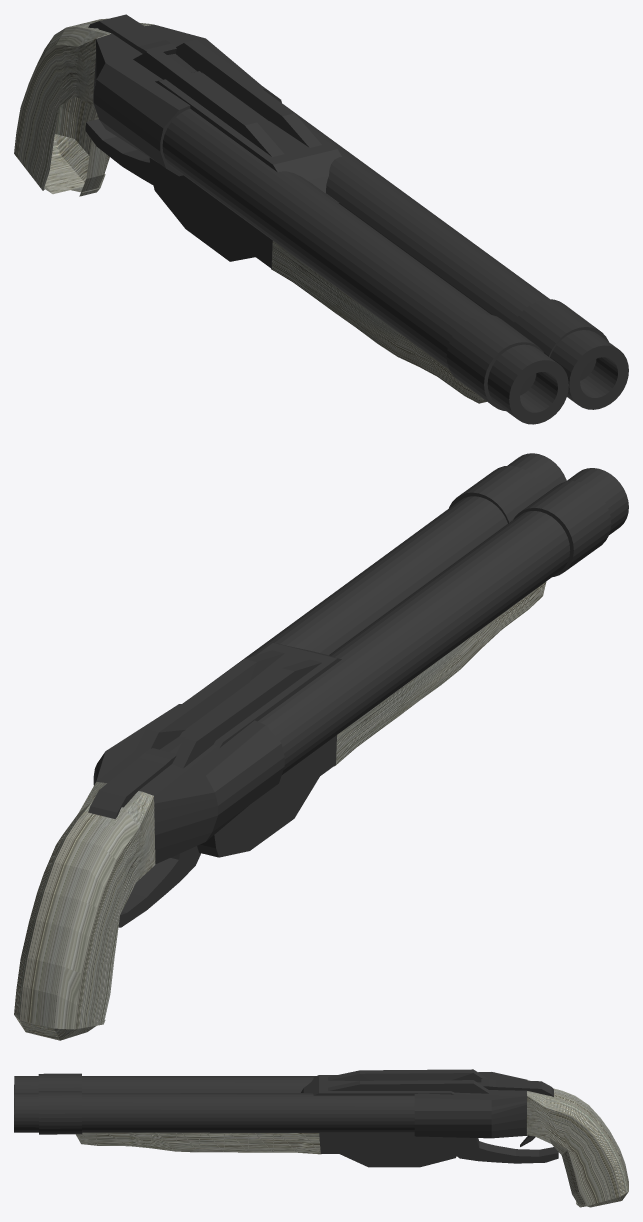
The model's file is DoubleBarrel(short).fbx.
3 views of the same model, one above another, from view 1: azimuth 30°, elevation 25°; view 2: azimuth 150°, elevation 25°; view 3: azimuth 270°, elevation 25° (orthographic). The views are drawn at different scales.
Visible parts, largest first — view 1: Cylinder, Cube.002, Cube, Cube.001, Cube.005, Cylinder.001, Cube.004, Cube.003, Cube.006; view 2: Cylinder, Cube.002, Cube.001, Cube, Cube.005, Cylinder.001, Cube.004, Cube.006, Cube.003; view 3: Cylinder, Cube.002, Cube.001, Cube, Cube.004, Cube.005, Cylinder.001, Cube.003, Cube.006.
Part boxes in pixels (bbox=[...]): Cylinder: bbox=[162, 96, 628, 424]; Cube.002: bbox=[14, 18, 153, 196]; Cube: bbox=[149, 71, 341, 268]; Cube.001: bbox=[93, 24, 281, 176]; Cube.005: bbox=[133, 40, 321, 157]; Cylinder.001: bbox=[446, 299, 608, 410]; Cube.004: bbox=[271, 241, 486, 403]; Cube.003: bbox=[85, 119, 153, 185]; Cube.006: bbox=[88, 14, 176, 54]; Cylinder: bbox=[209, 453, 628, 774]; Cube.002: bbox=[14, 782, 155, 1040]; Cube.001: bbox=[93, 704, 284, 864]; Cube: bbox=[179, 643, 341, 857]; Cube.005: bbox=[133, 650, 321, 768]; Cylinder.001: bbox=[449, 465, 611, 577]; Cube.004: bbox=[334, 582, 546, 766]; Cube.006: bbox=[88, 748, 176, 818]; Cube.003: bbox=[118, 846, 200, 927]; Cylinder: bbox=[14, 1076, 414, 1132]; Cube.002: bbox=[526, 1079, 628, 1207]; Cube.001: bbox=[414, 1072, 527, 1138]; Cube: bbox=[301, 1075, 462, 1167]; Cube.004: bbox=[76, 1132, 321, 1154]; Cube.005: bbox=[328, 1069, 489, 1093]; Cylinder.001: bbox=[38, 1073, 82, 1134]; Cube.003: bbox=[457, 1137, 558, 1163]; Cube.006: bbox=[481, 1078, 553, 1096].
Bounding box in the file's own units: 57.58 × 94.39 × 417.
